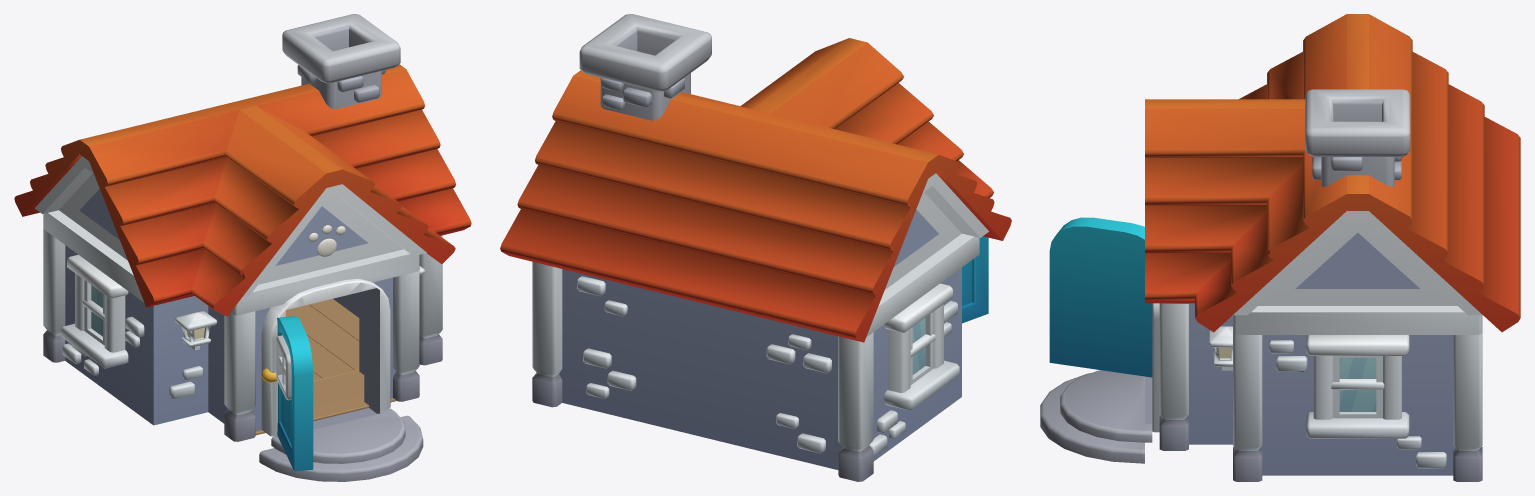
File: farmhouse.glb
3 renders of one model, left to right at view 1: azimuth 30°, elevation 25°; view 2: azimuth 150°, elevation 25°; view 3: azimuth 270°, elevation 25°, orthographic. The views are drawn at different scales.
Parts seen in each view (by area): view 1: roof_house.001, body_house, roof_original_chimney, body_open_original_door, interior_floor, interior_floor_entry; view 2: roof_house.001, body_house, roof_original_chimney, body_open_original_door; view 3: roof_house.001, body_house, body_open_original_door, roof_original_chimney.
Boxes of the visible parts, <box> form: roof_house.001: <box>14,64,471,316</box>; body_house: <box>43,229,442,481</box>; roof_original_chimney: <box>282,14,400,109</box>; body_open_original_door: <box>261,316,313,471</box>; interior_floor: <box>286,299,359,381</box>; interior_floor_entry: <box>255,371,396,435</box>; roof_house.001: <box>500,38,1011,342</box>; body_house: <box>532,261,961,481</box>; roof_original_chimney: <box>579,14,711,120</box>; body_open_original_door: <box>962,236,988,323</box>; roof_house.001: <box>1145,14,1520,334</box>; body_house: <box>1040,303,1482,481</box>; body_open_original_door: <box>1049,217,1152,377</box>; roof_original_chimney: <box>1305,89,1410,186</box>.
Bounding box in the file's own units: 330 × 309 × 366.
Materials: 4 (1 with a texture image).
